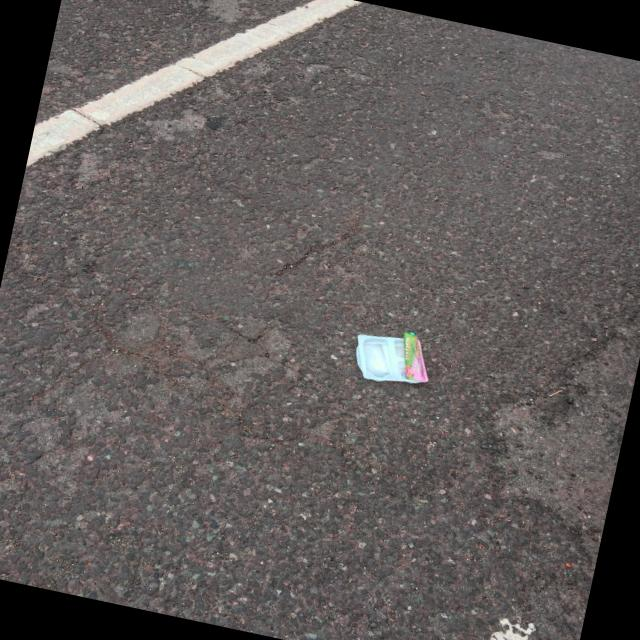less trash: (355, 333, 428, 382)
